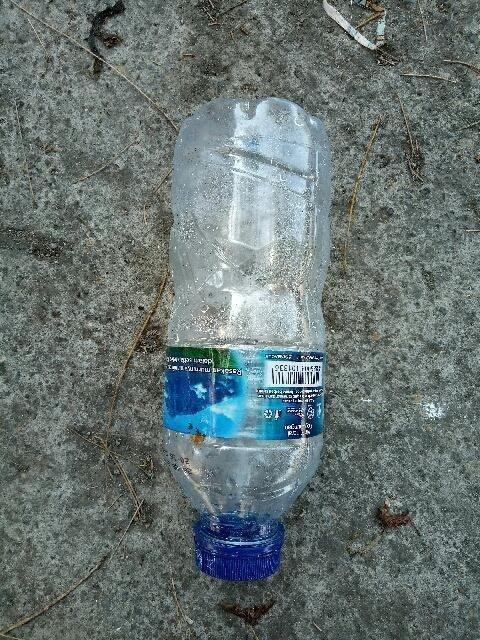bottle-plastic: (154, 97, 340, 588)
